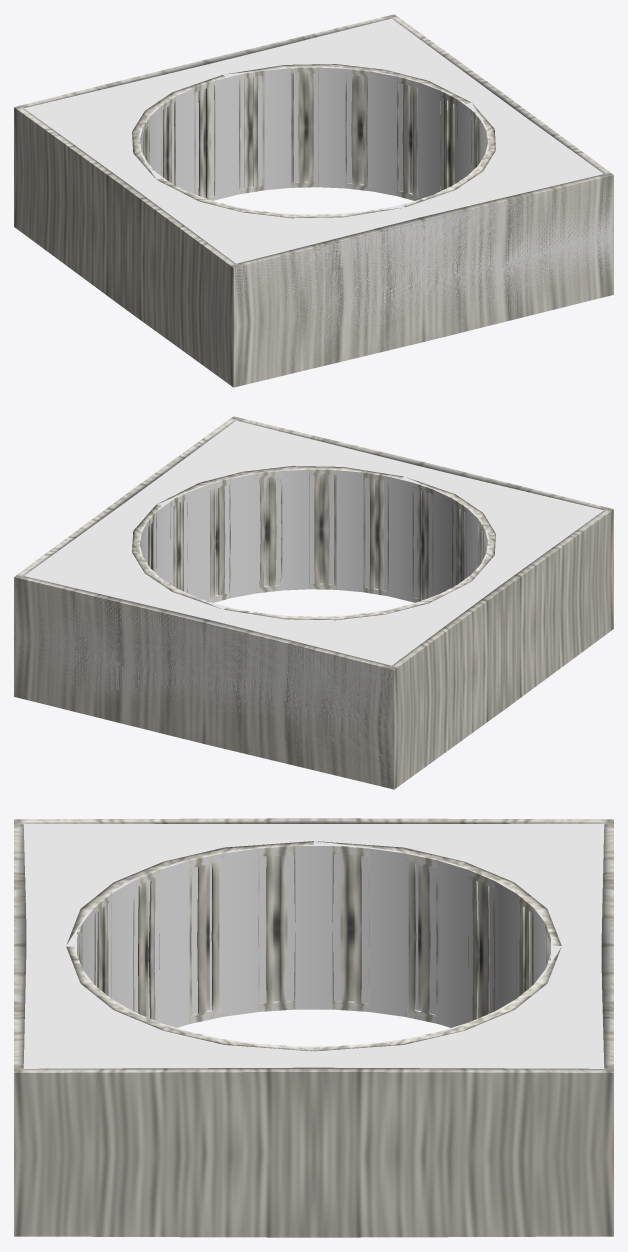
3 views of the same model, one above another, from view 1: azimuth 30°, elevation 25°; view 2: azimuth 150°, elevation 25°; view 3: azimuth 270°, elevation 25° (orthographic). The views are drawn at different scales.
Parts seen in each view (by area): view 1: object6detail, object6aura; view 2: object6detail, object6aura; view 3: object6detail, object6aura.
Boxes of the visible parts, box(x1,y1,x2,y2) form: object6detail: box(14, 14, 613, 387); object6aura: box(24, 18, 613, 384); object6detail: box(14, 416, 613, 789); object6aura: box(14, 420, 603, 787); object6detail: box(14, 818, 613, 1237); object6aura: box(23, 823, 604, 1068).
Size of the model in its own units: 46.84 by 14.28 by 46.84.
2 materials, 2 textured.
